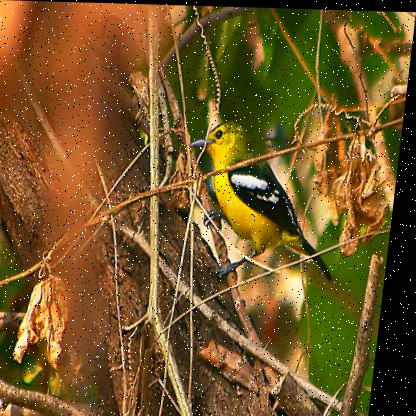Burung: (181, 116, 353, 278)
